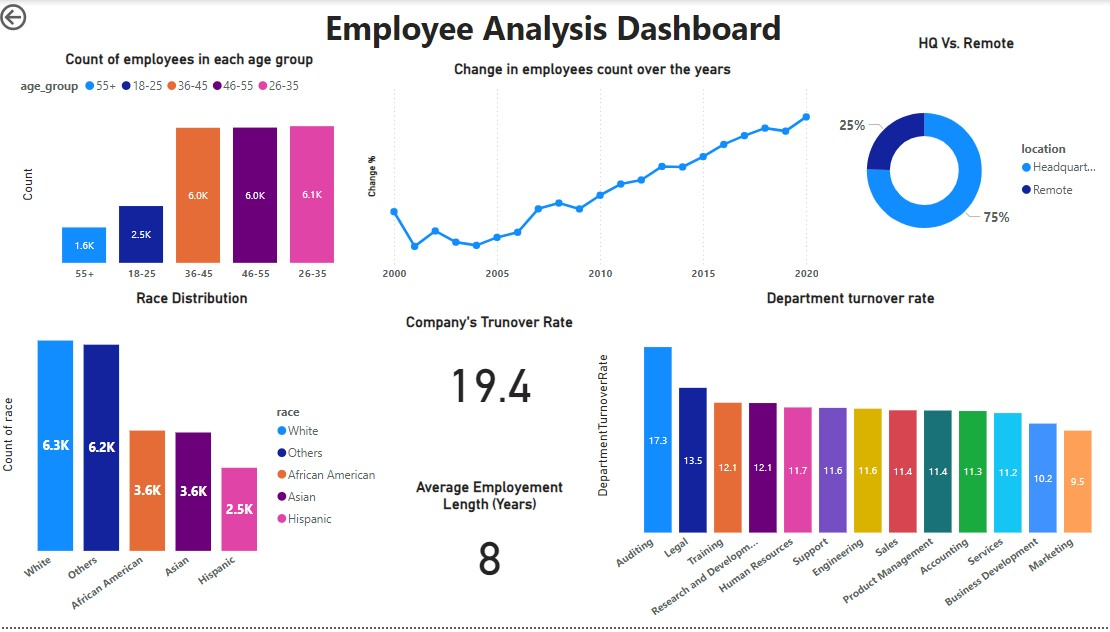

This screenshot's page, from the dashboard's own definition file:
{"tool":"powerbi","page":{"name":"Page 1","canvas":[1280,720],"ordinal":0},"visuals":[{"type":"columnChart","title":"Race Distribution","fields":{"Category":["HR_data.race"],"Y":["Divide(CountNonNull(HR_data.race), ScopedEval(CountNonNull(HR_data.race), []))"],"Series":["HR_data.race"]},"box":[0,331.8,450.1,388.6],"z":0},{"type":"textbox","box":[0,0,1279.6,69.1],"z":1000},{"type":"card","title":"Company''s Trunover Rate","fields":{"Values":["Avg(HR_data.turnover_rate)"]},"box":[450.1,359.5,233.5,132.1],"z":2000},{"type":"actionButton","box":[0,0,100,40],"z":3000},{"type":"columnChart","title":"Department turnover rate","fields":{"Y":["HR_data.DepartmentTurnoverRate"],"Category":["HR_data.department"],"Series":["HR_data.department"]},"box":[683.6,331.8,596,388.6],"z":4000},{"type":"lineChart","title":"Change in employees count over the years","fields":{"Category":["EmployeesCountChange.year"],"Y":["Sum(EmployeesCountChange.net_change_percentage)"]},"box":[420.9,69.1,528.4,262.7],"z":5000},{"type":"card","title":"Average Employement Length (Years)","fields":{"Values":["HR_data.AvgEmploymentLength"]},"box":[450.1,549.9,233.5,130.6],"z":6000},{"type":"columnChart","title":"Count of employees in each age group","fields":{"Category":["HR_data.age_group"],"Y":["CountNonNull(HR_data.age_group)"],"Series":["HR_data.age_group"]},"box":[23,58.4,397.9,273.4],"z":7000},{"type":"donutChart","title":"HQ Vs. Remote","fields":{"Y":["CountNonNull(HR_data.location)"],"Category":["HR_data.location"]},"box":[949.3,39.9,330.3,291.9],"z":8000}]}

Visuals, with their boxes in screenshot pixels (x1, y1, x2, y2), scaled from the page's 1280x720 canvas onto the 1110x632 screenshot:
"Race Distribution" columnChart: 0:291:390:631
textbox: 0:0:1109:61
"Company''s Trunover Rate" card: 390:316:593:432
actionButton: 0:0:87:35
"Department turnover rate" columnChart: 593:291:1109:631
"Change in employees count over the years" lineChart: 365:61:823:291
"Average Employement Length (Years)" card: 390:483:593:597
"Count of employees in each age group" columnChart: 20:51:365:291
"HQ Vs. Remote" donutChart: 823:35:1109:291
